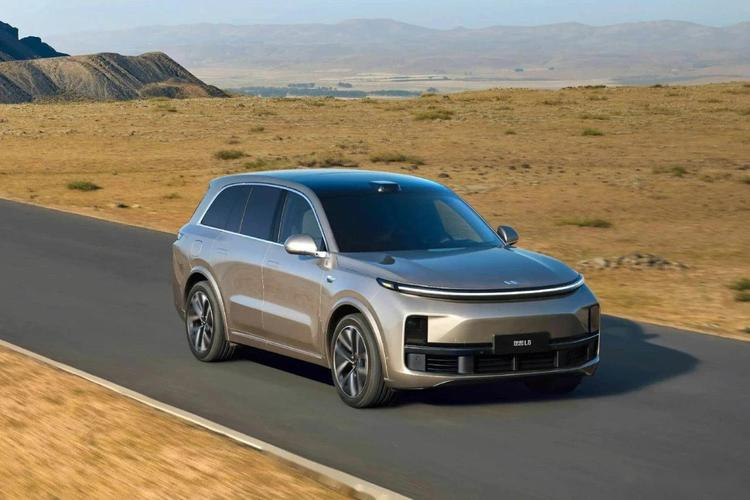汽车: (160, 169, 607, 413)
